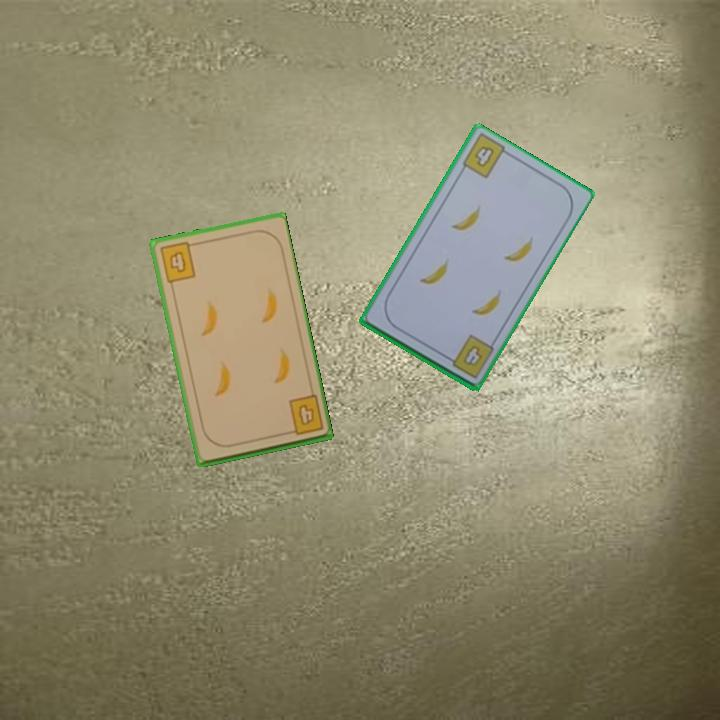4b: (442, 331, 497, 381), (282, 392, 326, 438), (156, 238, 199, 285), (471, 142, 497, 170)
